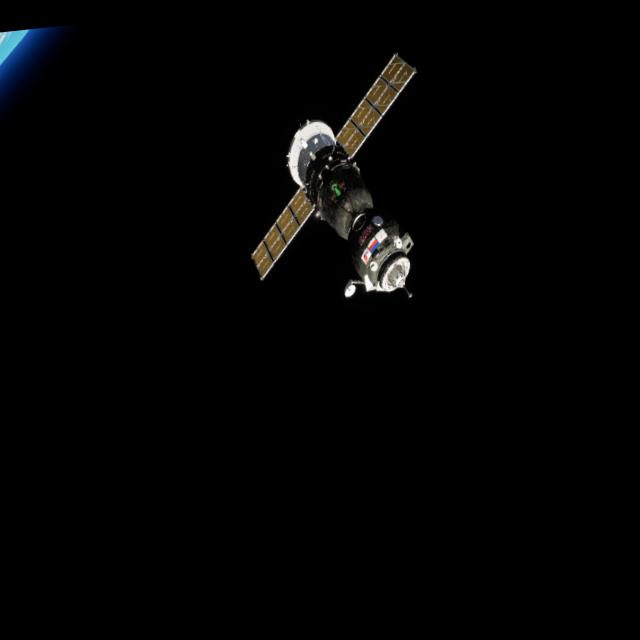Satellites revolving around earth: (228, 47, 442, 316)
